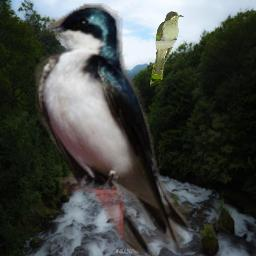Cuckoo: (150, 11, 184, 87)
Swallow: (34, 3, 191, 256)
